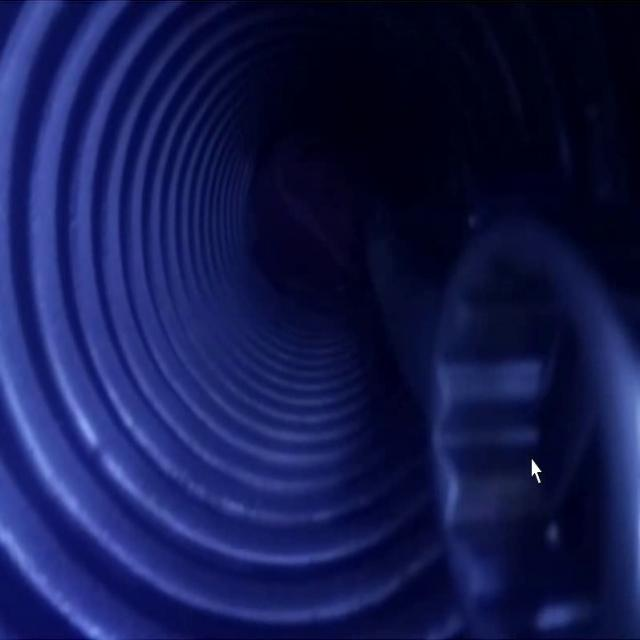metal piece: (422, 207, 639, 640)
